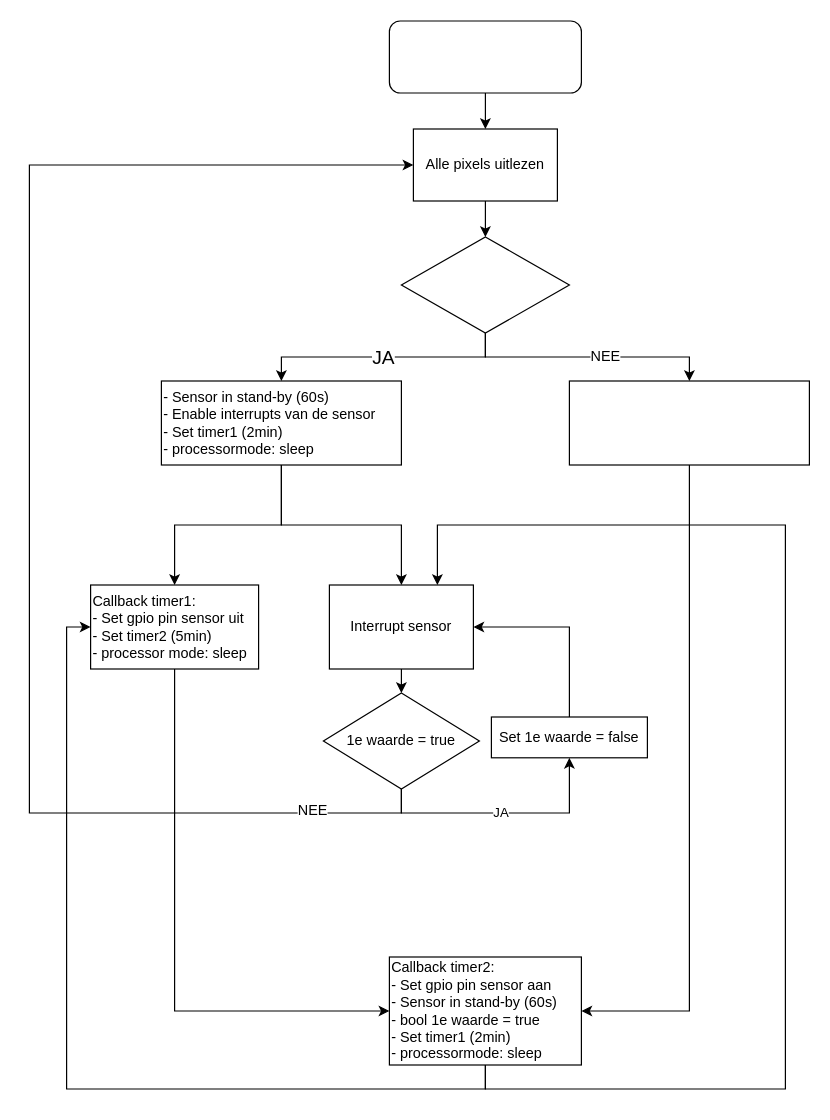
Image size: 830x1120. Some labels were removed from this diagram. The shapes that lost their labels are listed below. From the top down, each one's centre as x and y in pixels, then its label:
At (484,56): "init: sensor in stand-by (60s) processormode: normal".
At (484,284): "X pixels > threshold".
At (688,422): "- Set gpio pin sensor uit - Set timer2 (5min) - processormode: sleep".
